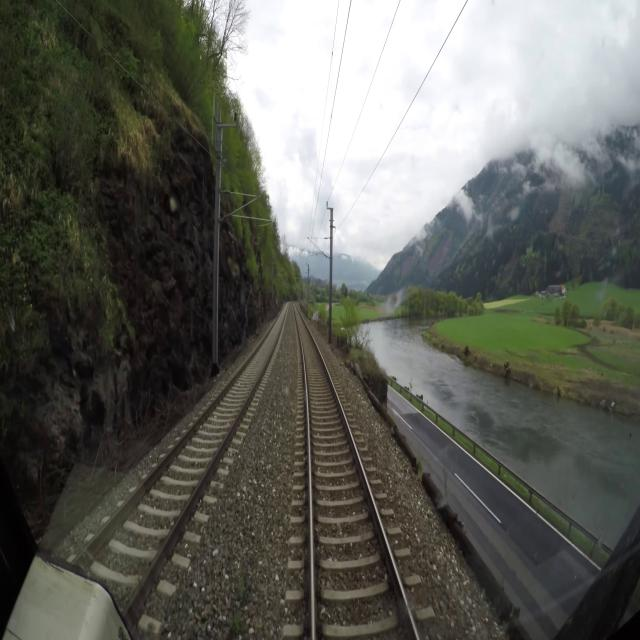rail-track: (81, 305, 286, 607), (294, 303, 416, 639)
